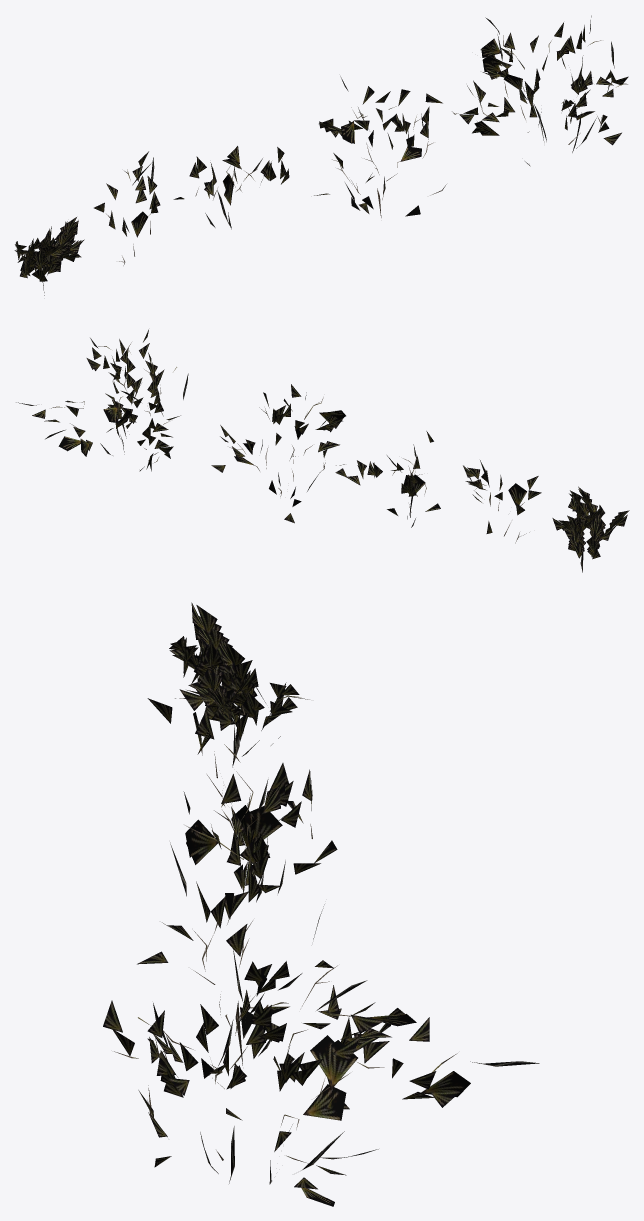
The model's file is bush_lod1.glb.
3 views of the same model, one above another, from view 1: azimuth 30°, elevation 25°; view 2: azimuth 150°, elevation 25°; view 3: azimuth 270°, elevation 25° (orthographic). The views are drawn at different scales.
Visible parts, largest first — view 1: wild_rooibos_bush_a, wild_rooibos_bush_b, wild_rooibos_bush_e, wild_rooibos_bush_c, wild_rooibos_bush_d; view 2: wild_rooibos_bush_a, wild_rooibos_bush_e, wild_rooibos_bush_b, wild_rooibos_bush_c, wild_rooibos_bush_d; view 3: wild_rooibos_bush_a, wild_rooibos_bush_e, wild_rooibos_bush_b, wild_rooibos_bush_c, wild_rooibos_bush_d.
Boxes of the visible parts, x1,y1,x2,y2 form: wild_rooibos_bush_a: (425,15,628,166); wild_rooibos_bush_b: (314,76,446,217); wild_rooibos_bush_e: (14,217,84,295); wild_rooibos_bush_c: (173,146,289,229); wild_rooibos_bush_d: (94,151,160,265); wild_rooibos_bush_a: (16,329,188,471); wild_rooibos_bush_e: (552,486,629,572); wild_rooibos_bush_b: (211,384,345,523); wild_rooibos_bush_c: (335,431,440,527); wild_rooibos_bush_d: (463,460,541,543); wild_rooibos_bush_a: (103,961,539,1206); wild_rooibos_bush_e: (169,602,264,767); wild_rooibos_bush_b: (137,779,341,1078); wild_rooibos_bush_c: (183,728,337,902); wild_rooibos_bush_d: (147,668,309,803).
Size of the model in its own units: 2.27 by 0.5059 by 0.7565.
2 materials, 2 textured.
